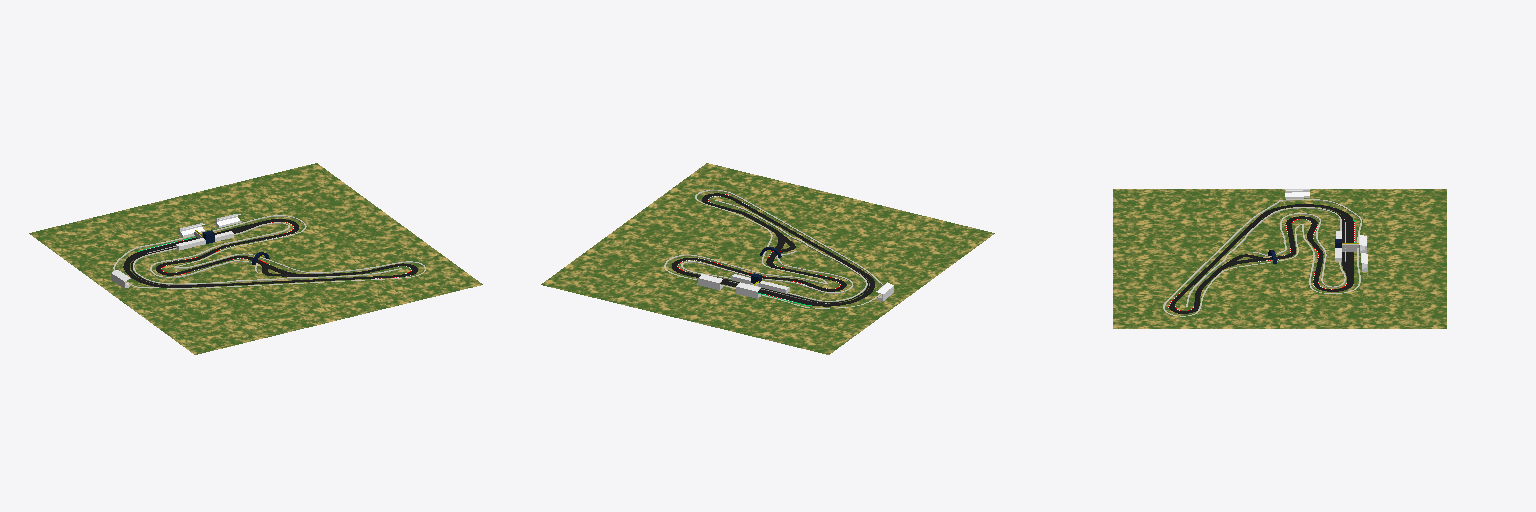
3 renders of one model, left to right at view 1: azimuth 30°, elevation 25°; view 2: azimuth 150°, elevation 25°; view 3: azimuth 270°, elevation 25°, orthographic.
Visible parts, largest first — view 1: DIRT_Plane, ROAD.001_Cube, WALL.001_Cube.002, WALL_Cube.003; view 2: DIRT_Plane, ROAD.001_Cube, WALL.001_Cube.002, WALL_Cube.003; view 3: DIRT_Plane, ROAD.001_Cube, WALL.001_Cube.002, WALL_Cube.003.
Boxes of the visible parts, x1,y1,x2,y2 form: DIRT_Plane: [29, 163, 482, 354]; ROAD.001_Cube: [123, 219, 417, 287]; WALL.001_Cube.002: [113, 215, 425, 288]; WALL_Cube.003: [133, 222, 401, 284]; DIRT_Plane: [541, 163, 994, 354]; ROAD.001_Cube: [672, 193, 874, 306]; WALL.001_Cube.002: [664, 190, 883, 308]; WALL_Cube.003: [681, 200, 867, 301]; DIRT_Plane: [1113, 189, 1446, 328]; ROAD.001_Cube: [1169, 204, 1355, 313]; WALL.001_Cube.002: [1163, 199, 1361, 316]; WALL_Cube.003: [1186, 207, 1345, 306].
Bounding box in the file's own units: 607 × 25.38 × 607.
Materials: 2 (1 with a texture image).